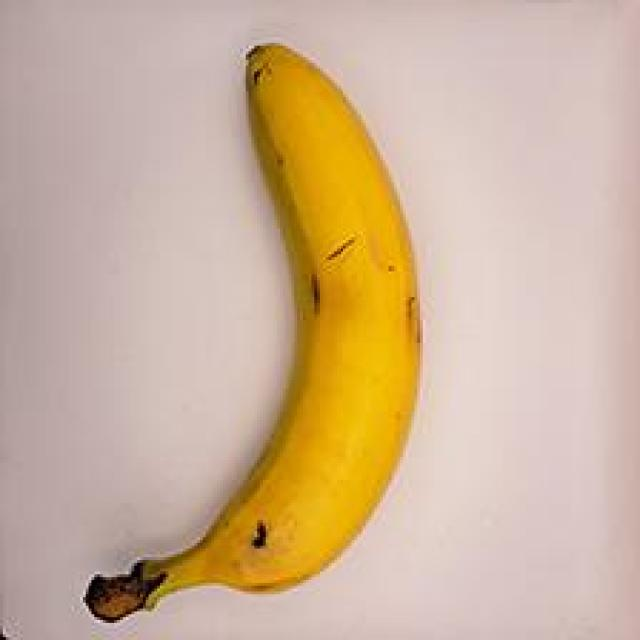Ripe: (52, 16, 475, 638)
